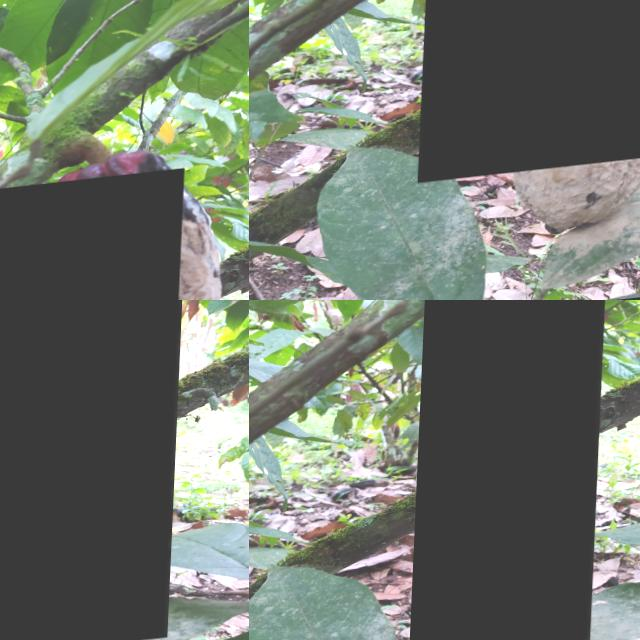Monilia: (414, 300, 607, 640)
Sana: (0, 300, 188, 640), (422, 0, 640, 187), (0, 177, 186, 300)
